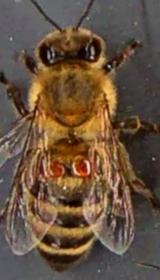varroa_mite: (65, 154, 99, 180), (42, 156, 68, 181)
